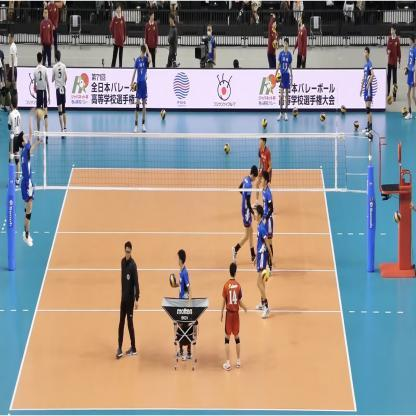spike: (15, 103, 46, 252)
